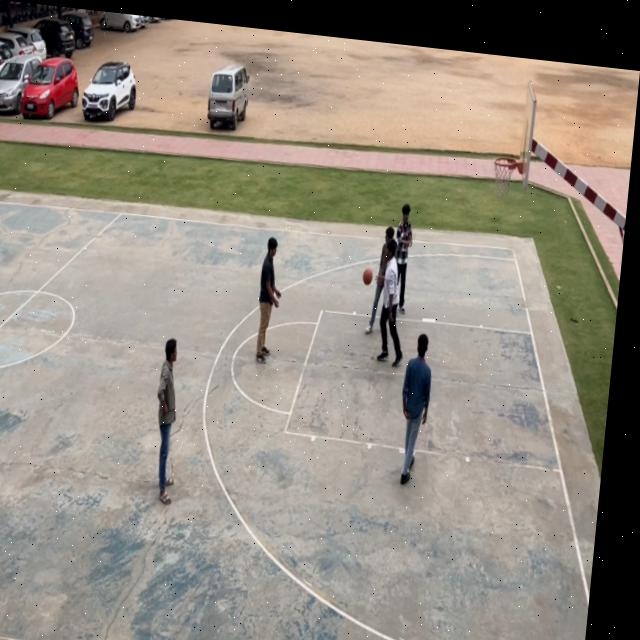basketball: (361, 265, 374, 289)
hoop: (488, 153, 518, 202)
